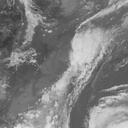cyclone: (70, 28, 109, 72)
